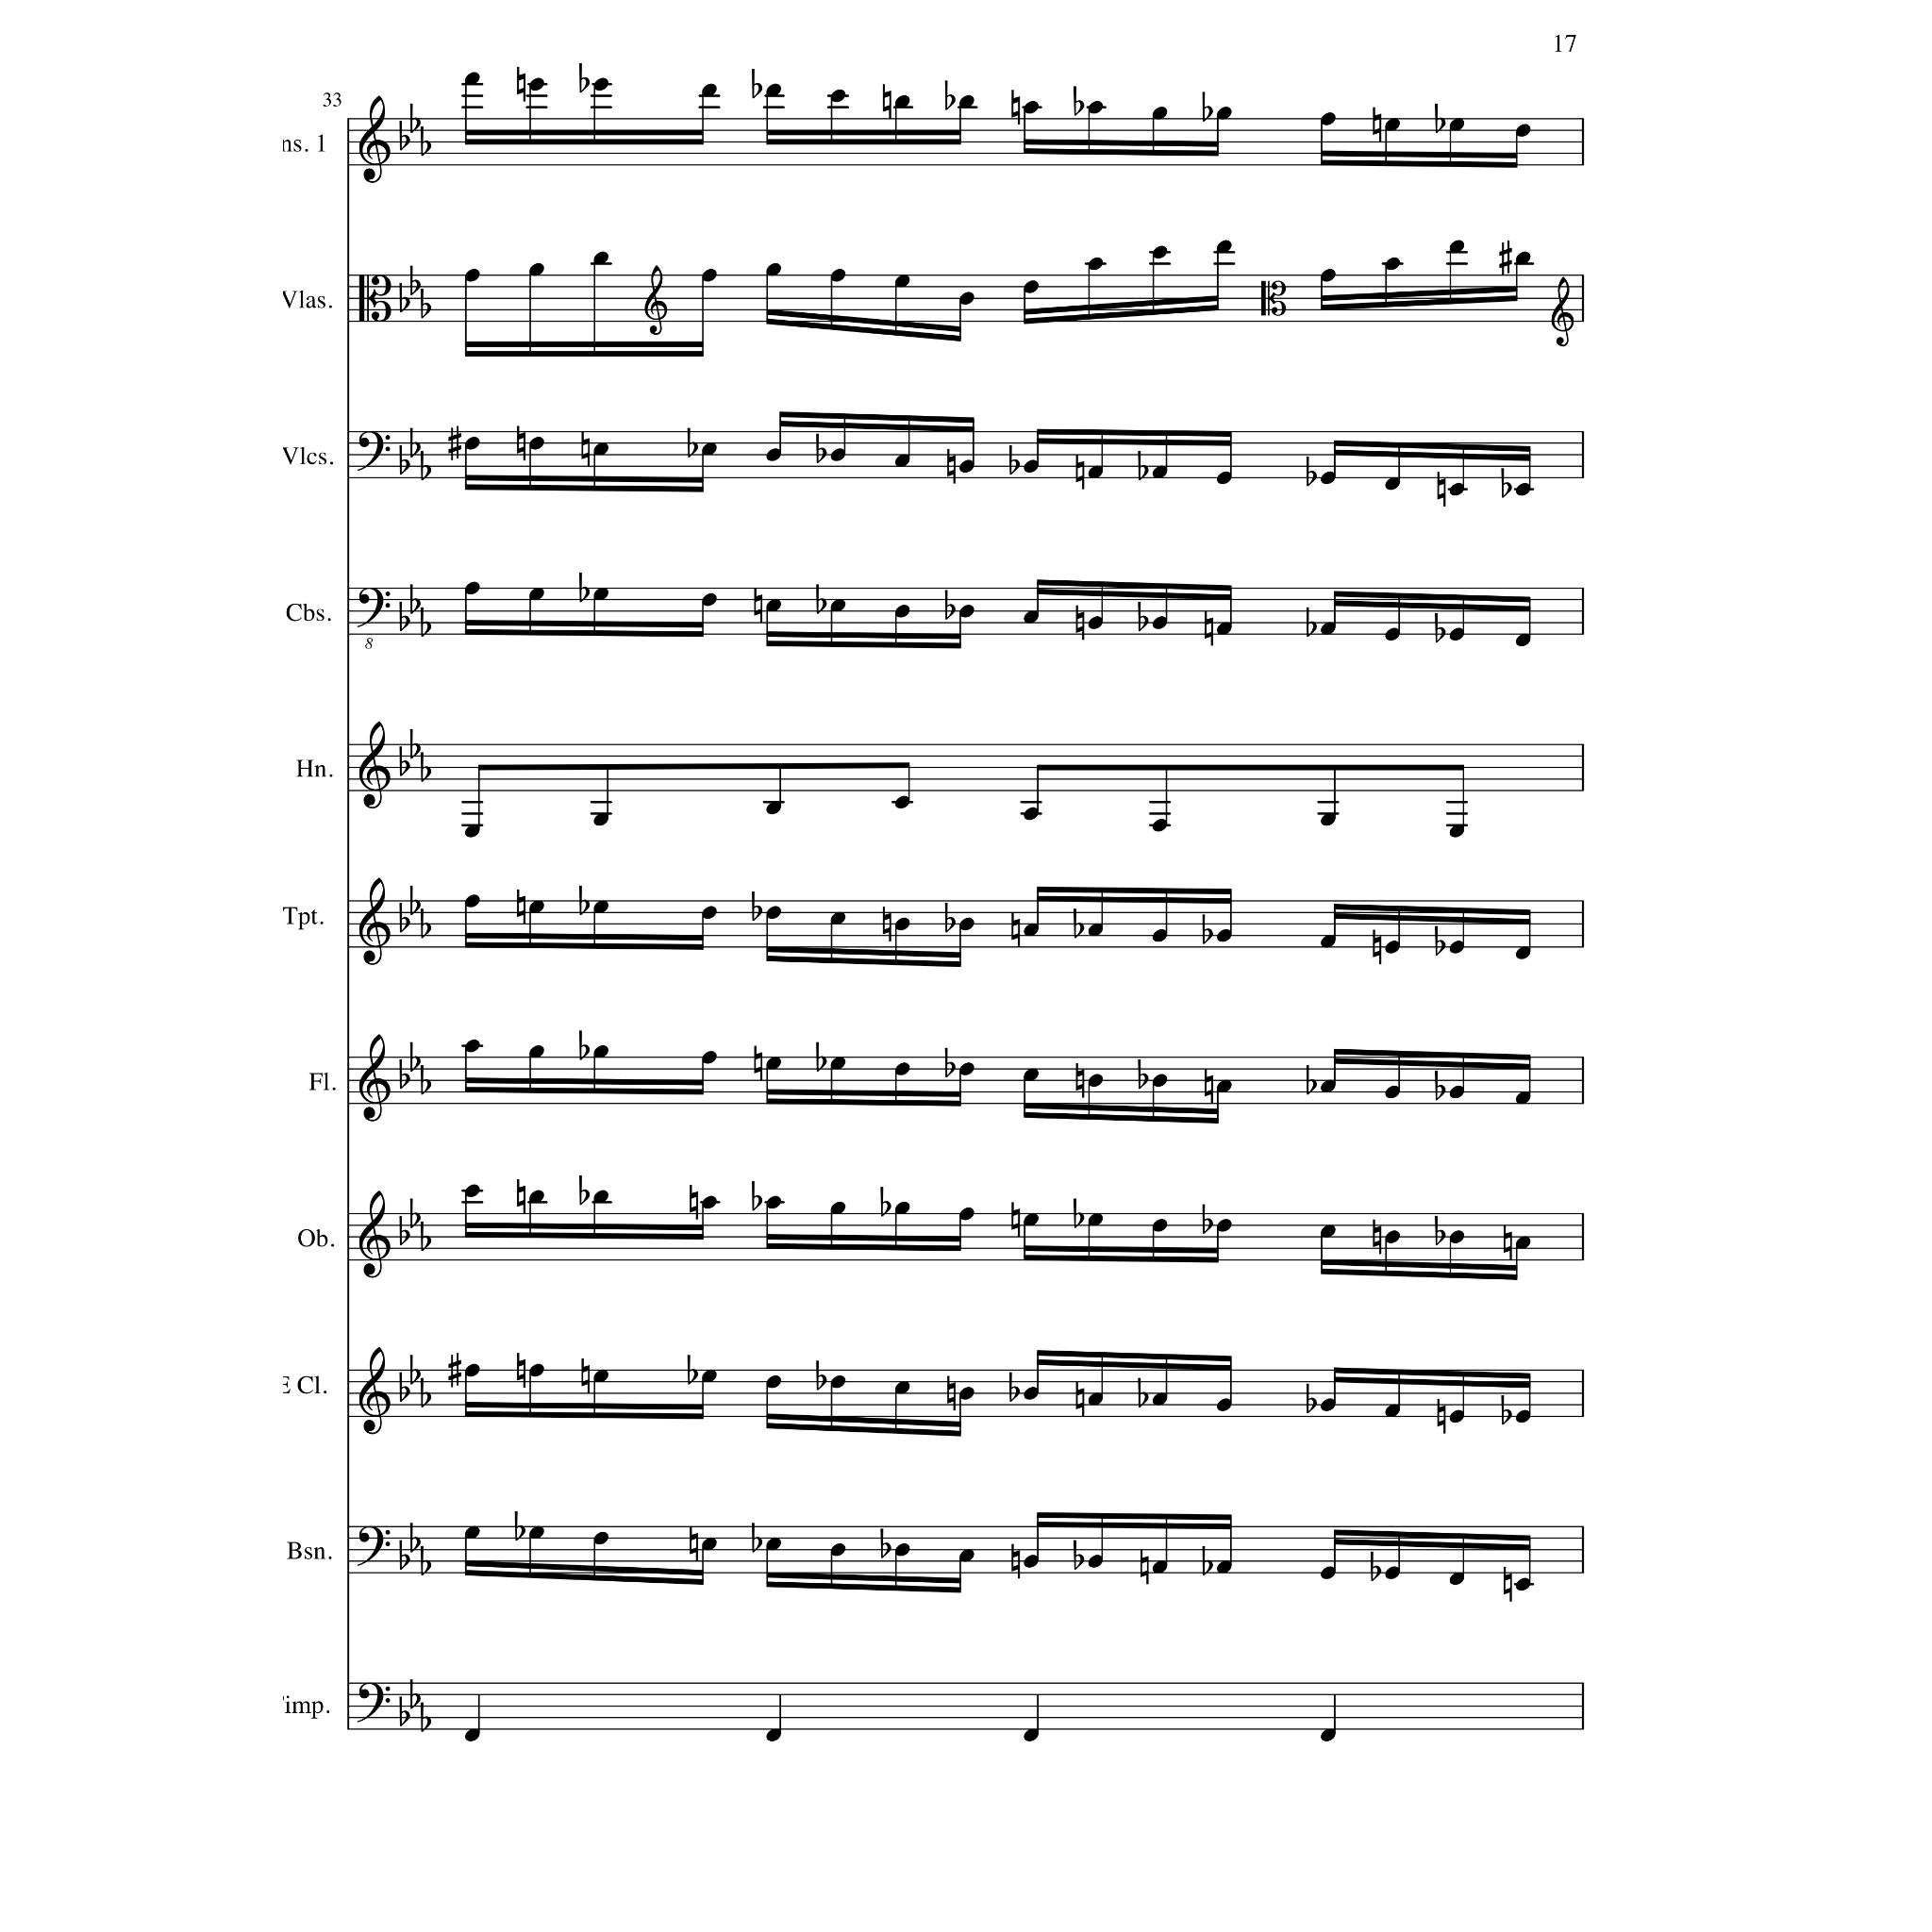fClef: (357, 587, 391, 628), (357, 1683, 391, 1723), (357, 1525, 391, 1566), (357, 432, 391, 472)
gClef: (359, 1033, 391, 1123), (359, 1346, 391, 1437), (359, 878, 391, 966), (359, 1191, 391, 1279), (359, 720, 391, 809), (359, 96, 391, 184)
noteheadBlack: (1384, 1566, 1401, 1580), (1384, 1403, 1401, 1417), (1384, 1230, 1401, 1244), (1384, 628, 1401, 642), (1384, 119, 1401, 133), (701, 906, 718, 920), (701, 1537, 718, 1552), (701, 1369, 718, 1384), (701, 1196, 718, 1210), (701, 593, 718, 607), (701, 442, 718, 456), (701, 83, 718, 97), (1215, 929, 1231, 943), (1215, 106, 1231, 120), (1215, 1398, 1231, 1412), (1320, 1566, 1336, 1580), (1320, 1398, 1336, 1412), (1320, 1224, 1336, 1238), (1320, 934, 1336, 948), (1320, 111, 1336, 126), (1088, 1392, 1104, 1407), (1088, 616, 1104, 630), (1088, 465, 1104, 479), (1088, 101, 1104, 115), (1152, 1392, 1168, 1407), (1152, 929, 1168, 943), (1152, 616, 1168, 630), (1152, 465, 1168, 479), (1152, 246, 1168, 260), (1152, 106, 1168, 120), (1516, 251, 1532, 265), (1516, 124, 1532, 138), (1516, 633, 1532, 648), (1516, 1578, 1532, 1592), (1516, 1410, 1532, 1424), (1516, 1235, 1532, 1249), (1516, 1092, 1532, 1106), (1516, 947, 1532, 961), (1449, 1230, 1465, 1244), (1449, 1410, 1465, 1424), (1449, 628, 1465, 642), (1449, 119, 1465, 133), (593, 1369, 609, 1384), (593, 587, 609, 602), (593, 442, 609, 456), (593, 251, 609, 265), (593, 78, 609, 92), (1023, 1069, 1039, 1083), (529, 587, 545, 602), (529, 78, 545, 92), (895, 1543, 911, 1557), (895, 1201, 911, 1215), (895, 1062, 911, 1076), (895, 453, 911, 467), (1023, 807, 1039, 821), (1023, 460, 1039, 474), (1023, 280, 1039, 294), (1023, 101, 1039, 115), (959, 460, 975, 474), (959, 1207, 975, 1221), (959, 1062, 975, 1076), (959, 292, 975, 306), (830, 1543, 846, 1557), (830, 1375, 846, 1389), (830, 1201, 846, 1215), (830, 1056, 846, 1070), (1384, 1086, 1401, 1099), (1384, 941, 1401, 954), (1384, 478, 1401, 490), (1384, 258, 1401, 271), (701, 1051, 718, 1063), (701, 269, 718, 281), (766, 1537, 780, 1552), (766, 1375, 780, 1389), (766, 1196, 780, 1210), (766, 1056, 780, 1070), (766, 906, 780, 920), (766, 801, 780, 816), (766, 83, 780, 97), (1215, 1219, 1231, 1231), (1215, 1081, 1231, 1093), (1215, 623, 1231, 635), (1215, 472, 1231, 485), (1215, 241, 1231, 253), (1215, 1560, 1231, 1573), (1320, 1729, 1336, 1741), (1320, 1081, 1336, 1093), (1320, 814, 1336, 826), (1320, 623, 1336, 635), (1320, 472, 1336, 485), (1320, 269, 1336, 281), (1023, 1214, 1039, 1226), (1088, 1214, 1104, 1226), (1088, 1074, 1104, 1086), (1088, 924, 1104, 936), (1088, 258, 1104, 271), (1023, 1729, 1039, 1741), (1023, 1555, 1039, 1568), (1023, 1387, 1039, 1399), (1088, 1555, 1104, 1568), (1152, 1219, 1168, 1231), (1152, 1560, 1168, 1573), (1152, 1074, 1168, 1086), (1152, 819, 1168, 832), (1516, 483, 1532, 495), (1449, 1573, 1465, 1585), (1449, 1086, 1465, 1099), (1449, 941, 1465, 954), (1449, 824, 1465, 837), (1449, 483, 1465, 495), (1449, 241, 1465, 253), (593, 1191, 609, 1203), (593, 1046, 609, 1058), (593, 901, 609, 913), (593, 814, 609, 826), (593, 1532, 609, 1545), (464, 437, 479, 449), (464, 269, 479, 281), (464, 73, 479, 85), (464, 582, 479, 594), (529, 901, 545, 913), (529, 1527, 545, 1539), (529, 1364, 545, 1376), (529, 1191, 545, 1203), (529, 1046, 545, 1058), (529, 437, 545, 449), (529, 264, 545, 276), (464, 1729, 479, 1741), (464, 1527, 479, 1539), (464, 1364, 479, 1376), (464, 1185, 479, 1198), (464, 1040, 479, 1053), (464, 895, 479, 908), (464, 824, 479, 837), (895, 1382, 911, 1394), (895, 918, 911, 931), (895, 796, 911, 809), (895, 605, 911, 617), (895, 276, 911, 288), (895, 96, 911, 108), (1023, 924, 1039, 936), (1023, 610, 1039, 623), (959, 1550, 975, 1562), (959, 1387, 975, 1399), (959, 918, 975, 931), (959, 605, 975, 617), (959, 96, 975, 108), (830, 913, 846, 925), (830, 600, 846, 612), (830, 449, 846, 462), (830, 90, 846, 103), (830, 269, 846, 281), (766, 1729, 780, 1741), (766, 600, 780, 612), (766, 449, 780, 462), (766, 264, 780, 276)
